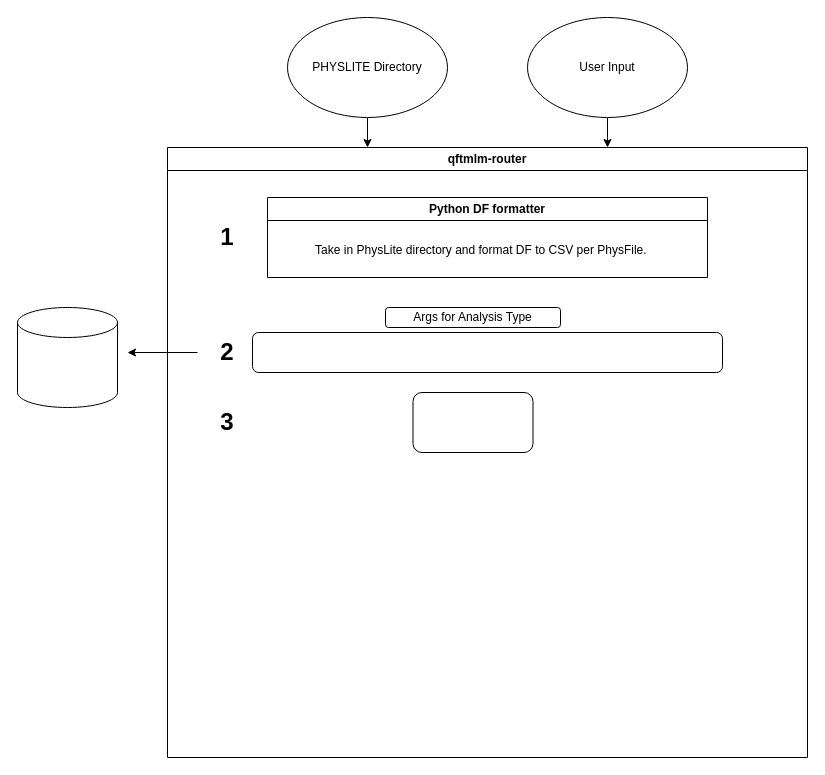
The diagram is 825 pixels wide and 775 high, and some of its shapes have lost their labels. The centre of each missing label's shape, as x and y in pixels:
"Kick off Java process to call threads for computation" belongs at pixel 487 352.
"Python Analysis" belongs at pixel 472 422.
"Store in Session file" belongs at pixel 67 357.
